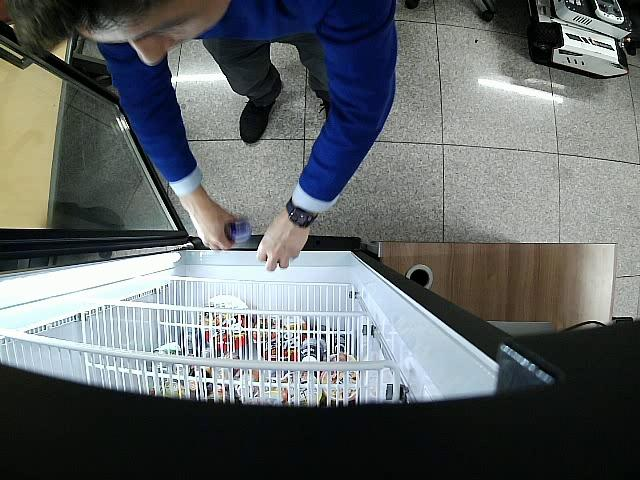00_hand: (179, 197, 240, 251), (257, 223, 310, 271)
14_welchsGrape: (226, 217, 254, 246)
